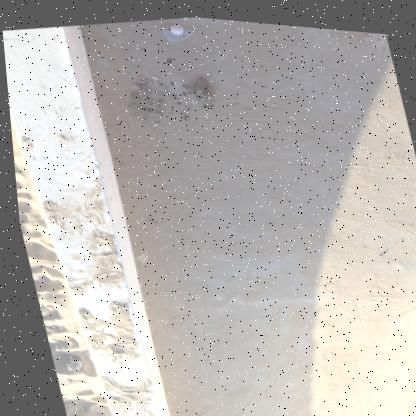Plastic: (151, 14, 194, 41), (132, 251, 143, 260), (386, 312, 397, 320)
Waste: (150, 119, 157, 123), (108, 133, 113, 138), (136, 77, 143, 80), (148, 102, 153, 106), (151, 73, 157, 76), (129, 82, 135, 84), (137, 74, 143, 76), (122, 221, 124, 226), (139, 73, 143, 75), (148, 118, 152, 120)
